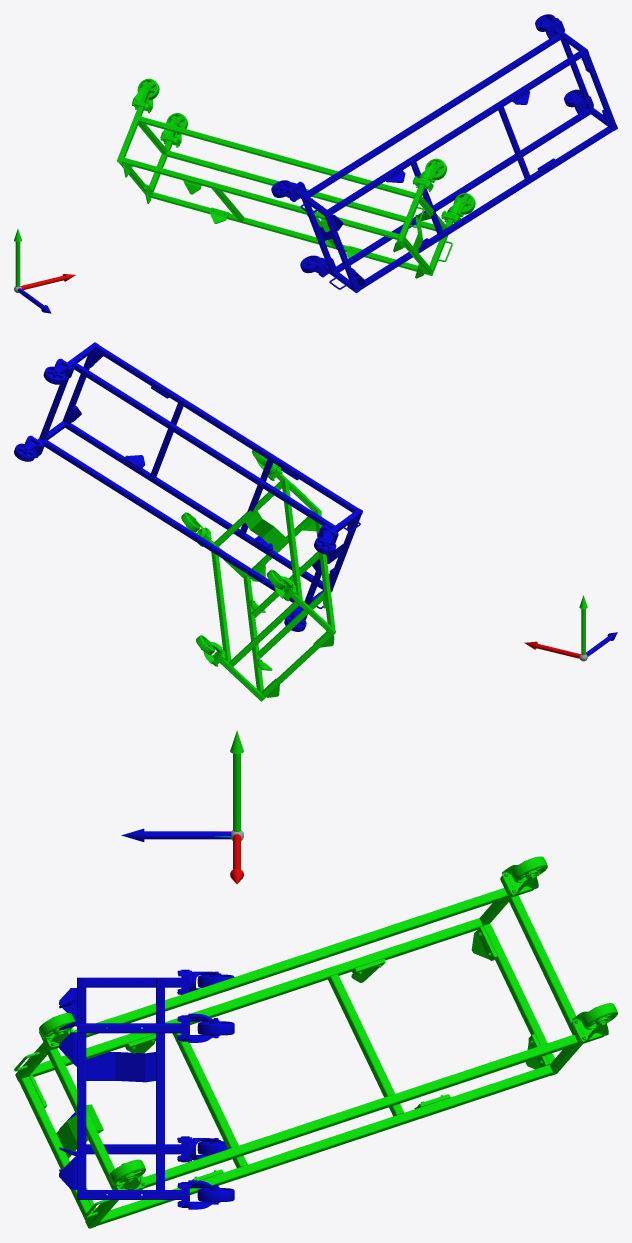
The model's file is combined_scene_idx_0.glb.
3 views of the same model, one above another, from view 1: azimuth 30°, elevation 25°; view 2: azimuth 150°, elevation 25°; view 3: azimuth 270°, elevation 25° (orthographic). The views are drawn at different scales.
Visible parts, largest first — view 1: gt, pred, frame; view 2: gt, pred, frame; view 3: pred, gt, frame.
Boxes of the visible parts, left/top/right/bottom form: gt: left=271, top=14, right=617, bottom=293; pred: left=117, top=78, right=475, bottom=278; frame: left=14, top=229, right=75, bottom=313; gt: left=14, top=342, right=362, bottom=631; pred: left=181, top=450, right=335, bottom=701; frame: left=524, top=595, right=617, bottom=661; pred: left=14, top=856, right=617, bottom=1228; gt: left=59, top=969, right=234, bottom=1209; frame: left=121, top=730, right=243, bottom=883.
Bounding box in the file's own units: 4.84 × 1.64 × 2.6.
